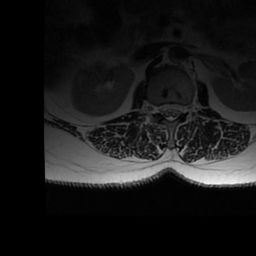CCS_normal: (166, 95, 174, 128)
LFS_normal: (182, 96, 191, 120)
LLS_normal: (174, 95, 182, 122)
RFS_normal: (151, 96, 158, 121)
RLS_normal: (158, 96, 166, 121)
